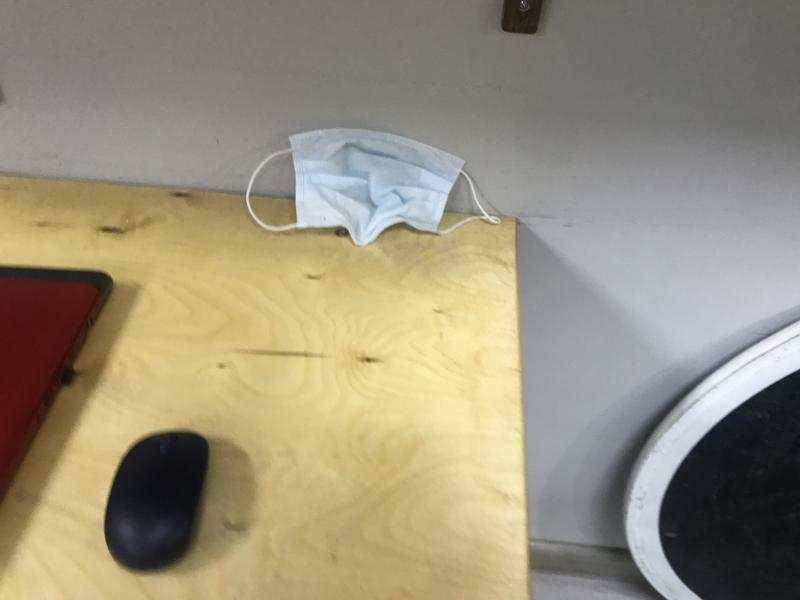medical_mask: (247, 130, 498, 244)
